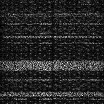lte: (1, 59, 104, 70), (1, 90, 104, 96), (1, 35, 103, 38)
